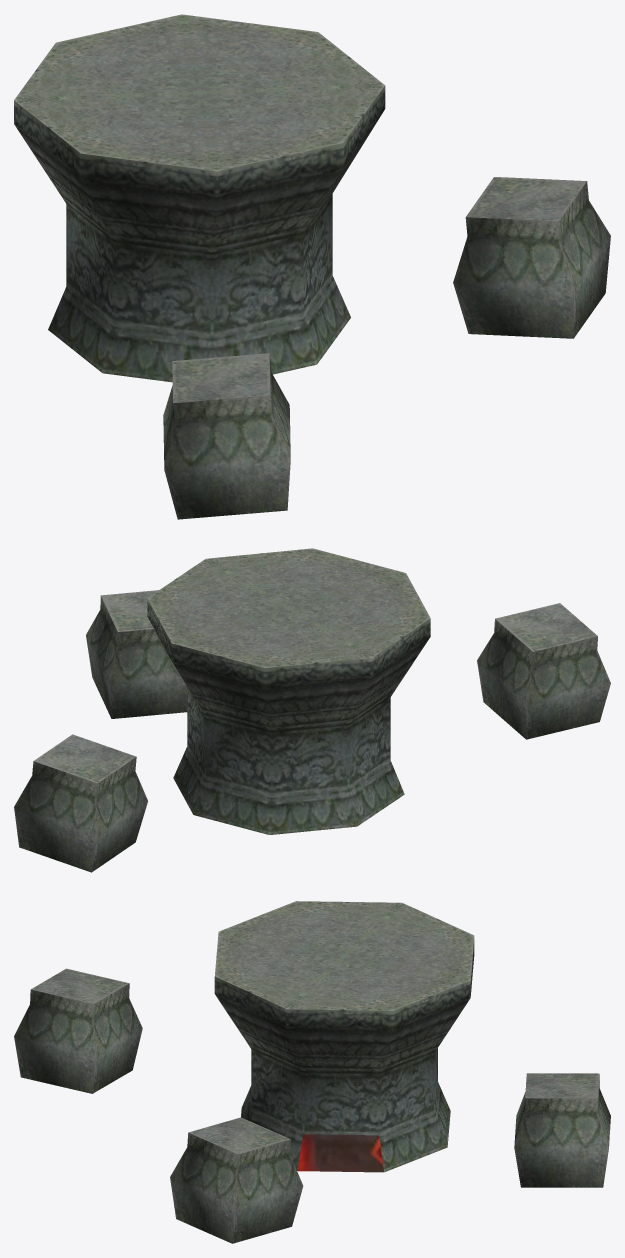
The model's file is cj_luoyang_shizuodeng01_55_43_5389out.fbx.
3 renders of one model, top to bottom at view 1: azimuth 30°, elevation 25°; view 2: azimuth 150°, elevation 25°; view 3: azimuth 270°, elevation 25°, orthographic. The views are drawn at different scales.
Parts seen in each view (by area): view 1: cj_luoyang_shizuodeng01; view 2: cj_luoyang_shizuodeng01; view 3: cj_luoyang_shizuodeng01.
Boxes of the visible parts, x1,y1,x2,y2 form: cj_luoyang_shizuodeng01: (14,14,610,519); cj_luoyang_shizuodeng01: (14,548,610,872); cj_luoyang_shizuodeng01: (14,901,610,1243).
Bounding box in the file's own units: 3.88 × 1.55 × 4.79.
